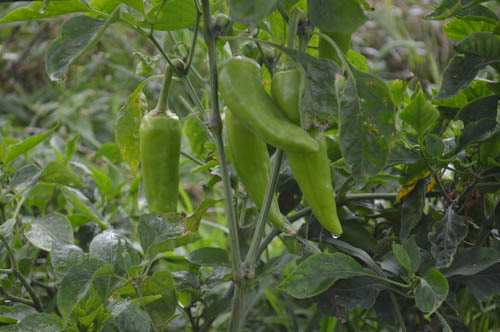ChiliPepper: (272, 68, 338, 232), (224, 57, 314, 152), (223, 110, 281, 226), (139, 112, 182, 214)
